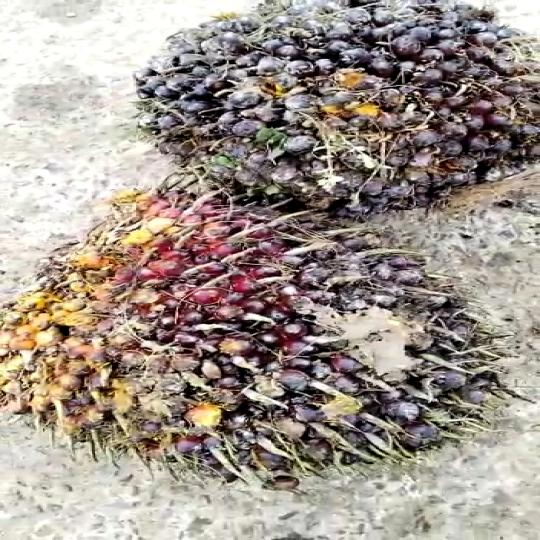kurang masak: (0, 194, 529, 481), (111, 0, 539, 226)
